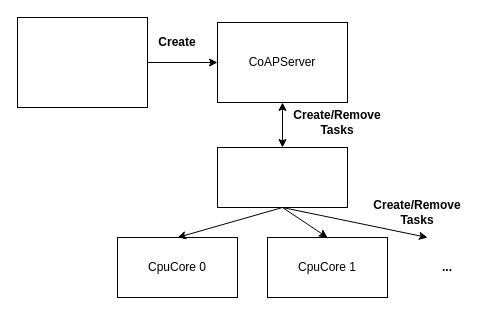
The diagram is 495 pixels wide and 315 high, and some of its shapes have lost their labels. Here are the shapes that lost their labels. From the top down, the box of each, then its label:
(16, 16, 148, 108): OS Management Task
(216, 146, 348, 208): TaskManager
